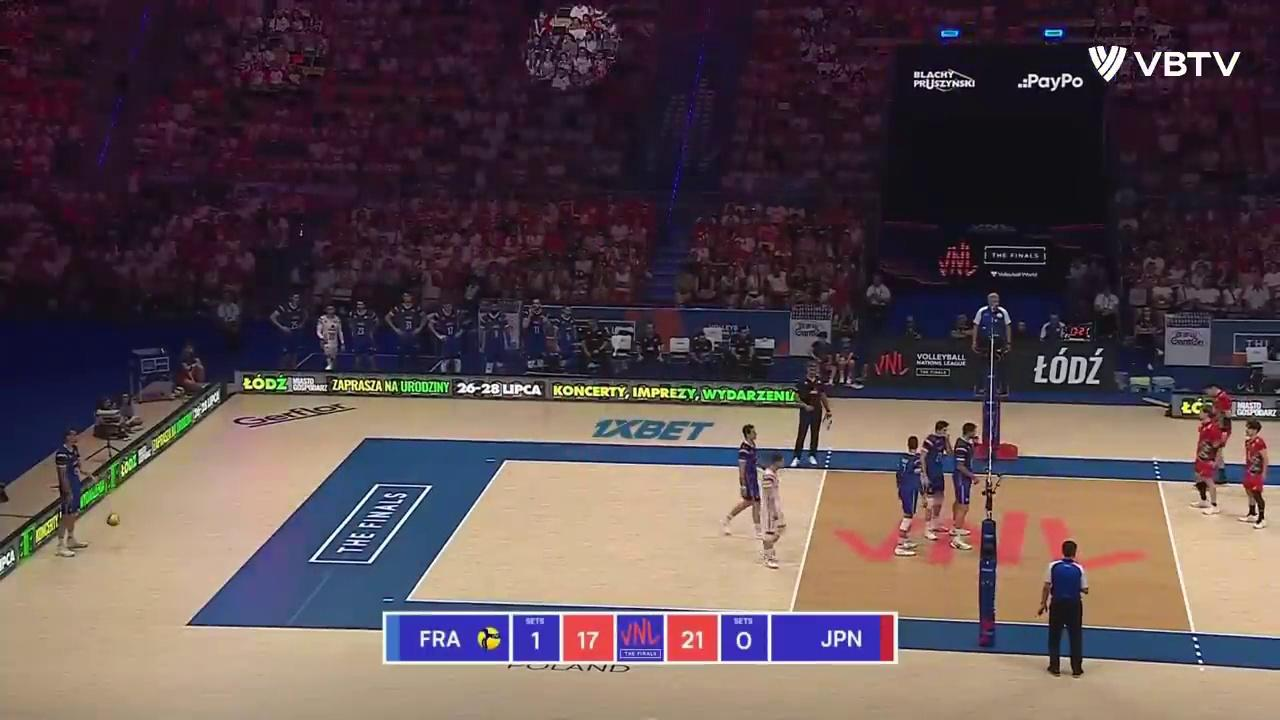ball: (107, 515, 119, 526)
